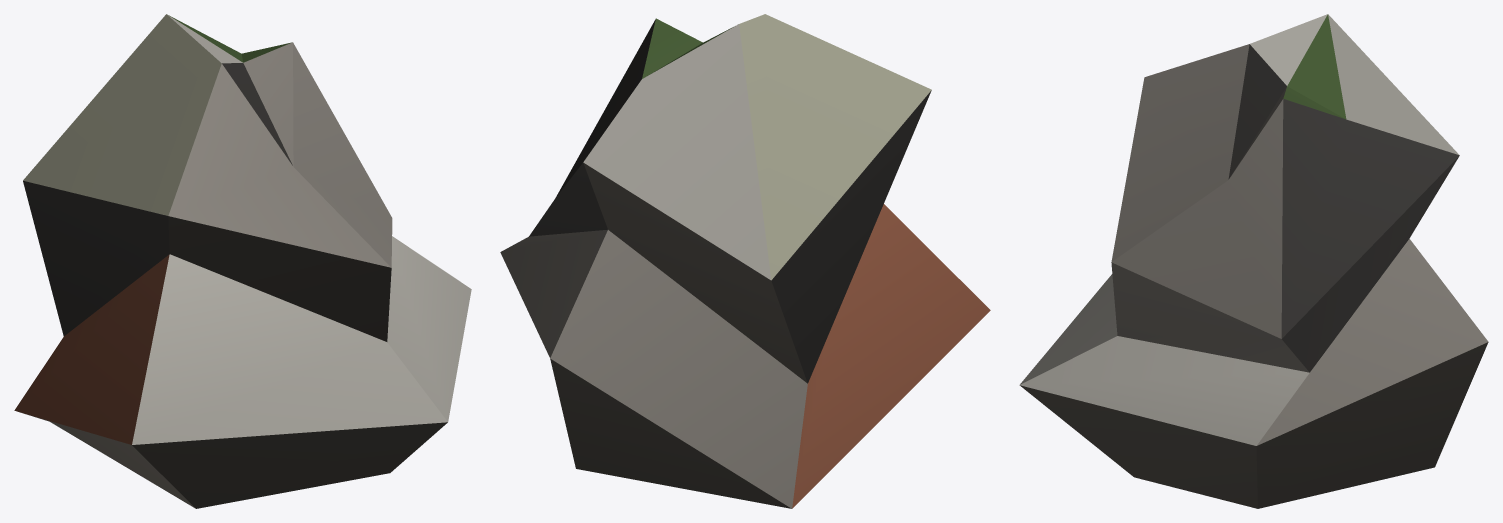
File: rock_small_b.glb
The picture shows the model from 3 angles, left to right: view 1: azimuth 30°, elevation 25°; view 2: azimuth 150°, elevation 25°; view 3: azimuth 270°, elevation 25°; orthographic projection. The views are drawn at different scales.
Parts seen in each view (by area): view 1: rock_small_b; view 2: rock_small_b; view 3: rock_small_b.
Part boxes in pixels (x1=…): rock_small_b: x1=14, y1=14, x2=471, y2=508; rock_small_b: x1=500, y1=14, x2=990, y2=508; rock_small_b: x1=1019, y1=14, x2=1488, y2=508.
Bounding box in the file's own units: 0.3311 × 0.3231 × 0.3397.
Materials: 1 (1 with a texture image).
